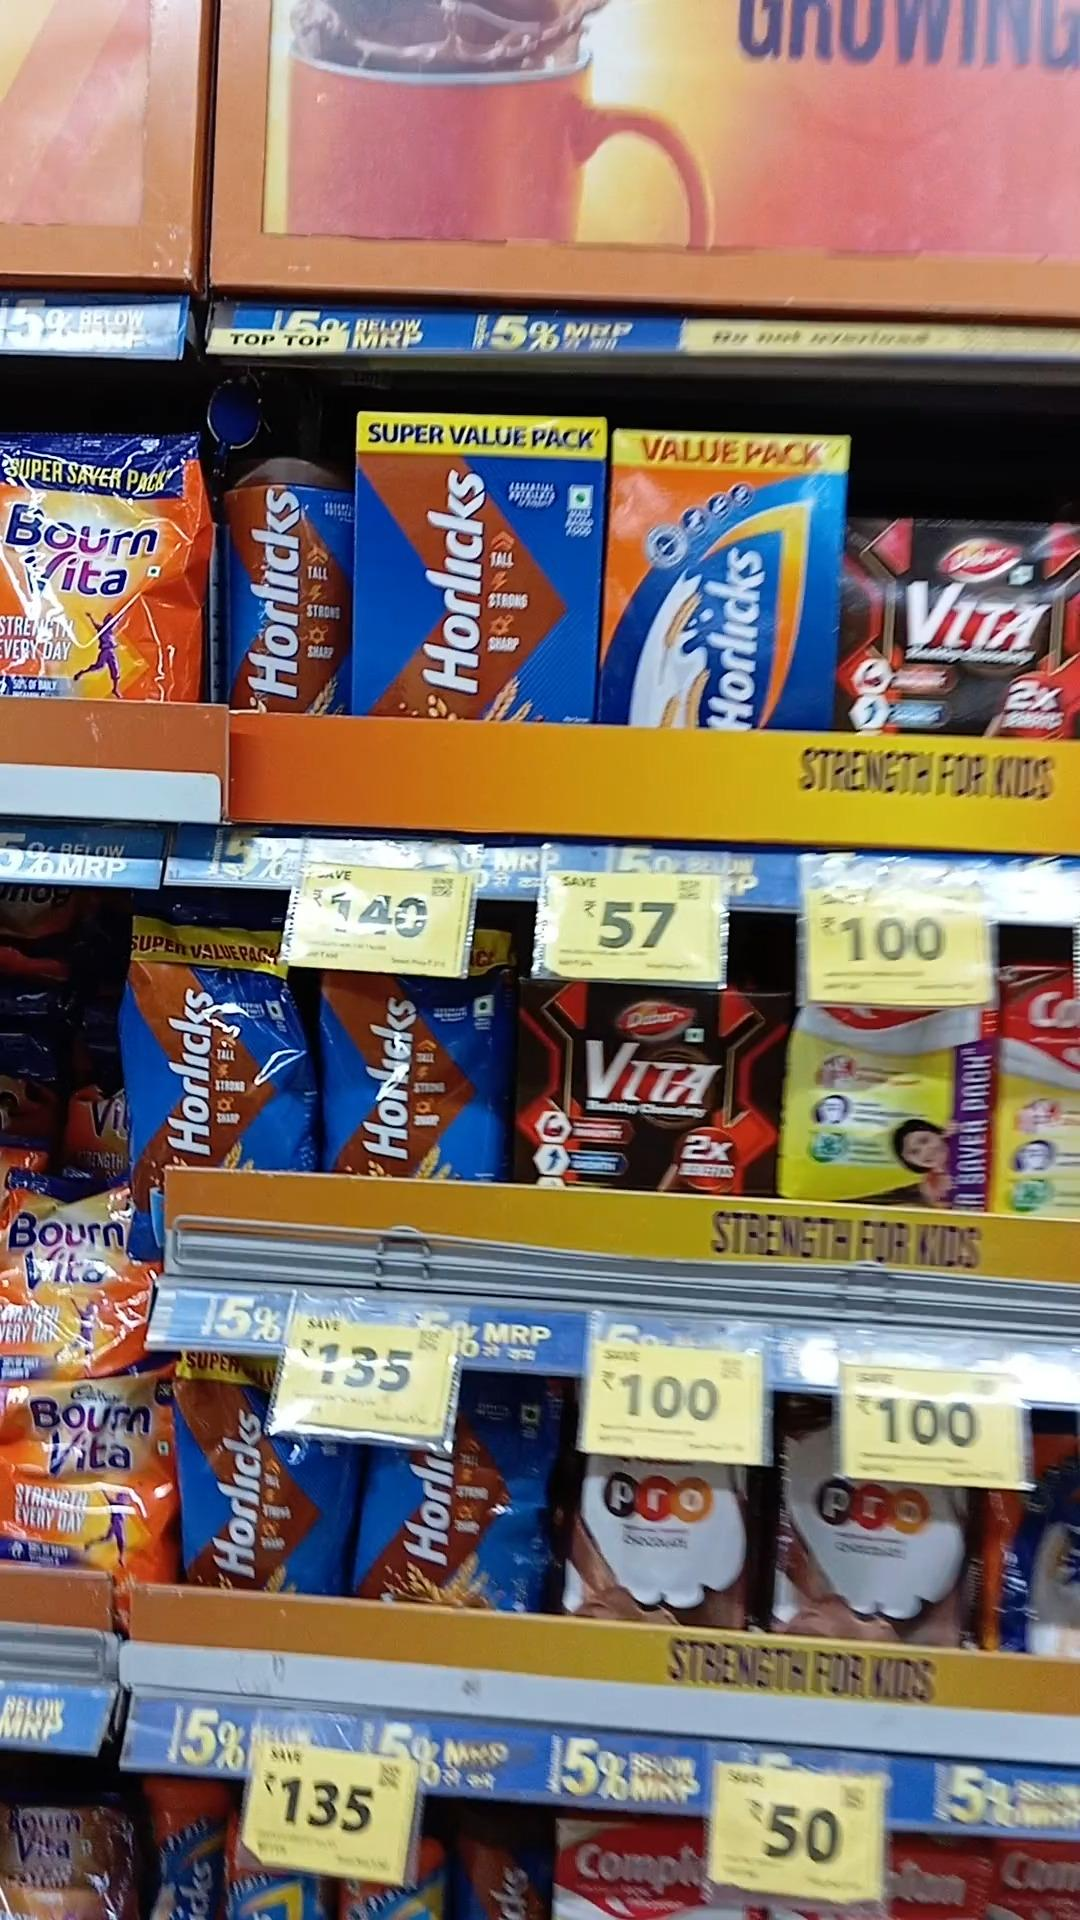BOURN_VITA_750_G_POUCH: (0, 1377, 166, 1578), (0, 1171, 150, 1377)
HORLICK_CHOCOLATE_1_KG_JAR: (224, 455, 348, 715)
HORLICK_CHOCOLATE_1_KG_PACK: (357, 413, 599, 724)
HORLICK_CHOCOLATE_750_G_POUCH: (124, 919, 305, 1185), (316, 967, 510, 1182), (171, 1353, 326, 1588)
